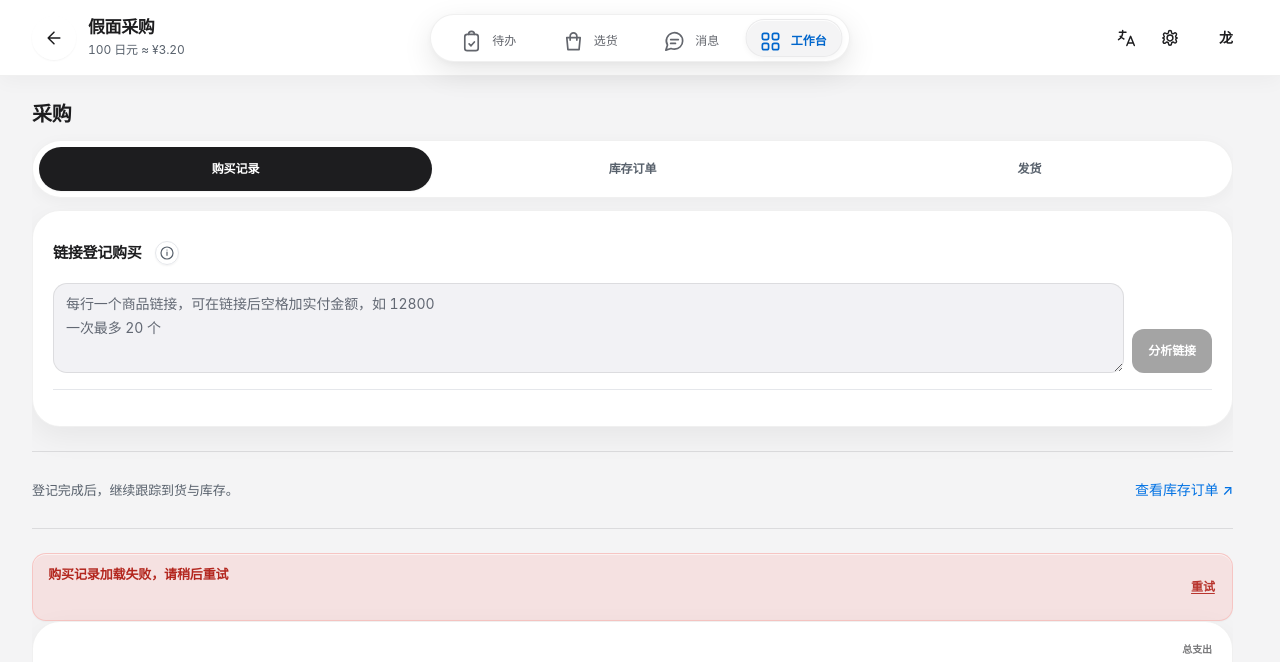
Dashboard load error states › shows a retry in the purchases view when the records load fails
The width and height of the screenshot is (1280, 662).
What coordinates should you click on to do the following:
click the button with test id "retry-purchases"
I would click on:
 (1203, 587)
Its box is [1189,565,1217,609].
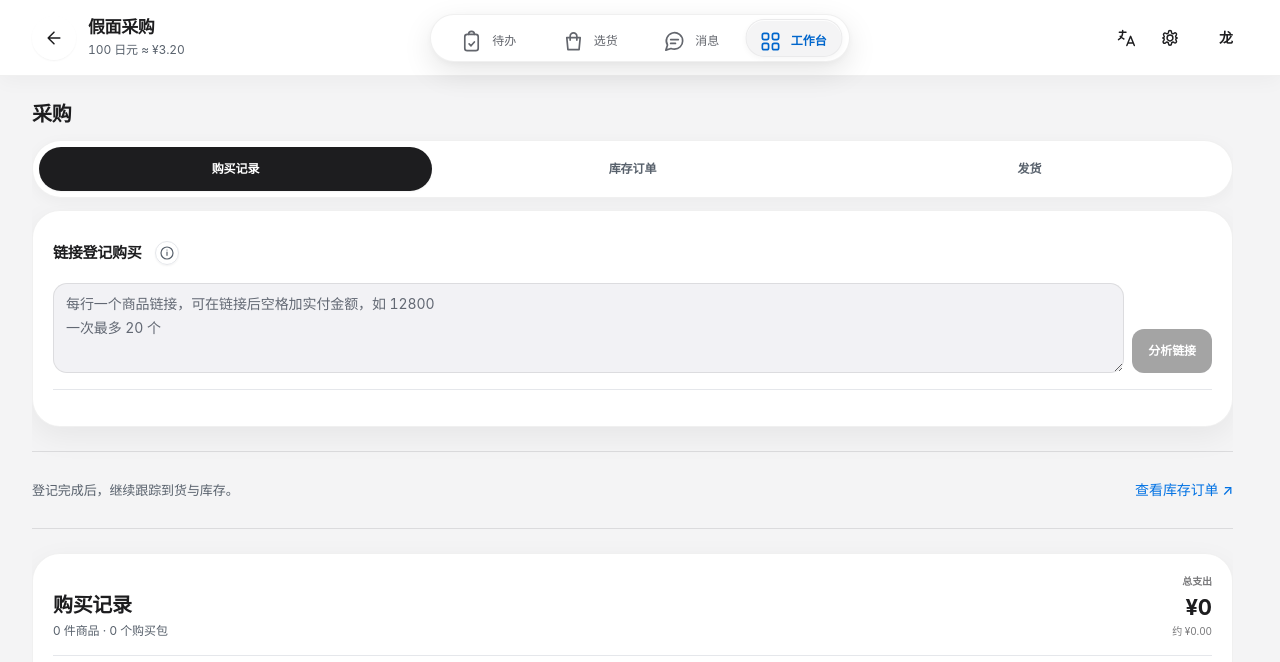
Check: the button with test id "retry-purchases" is gone
